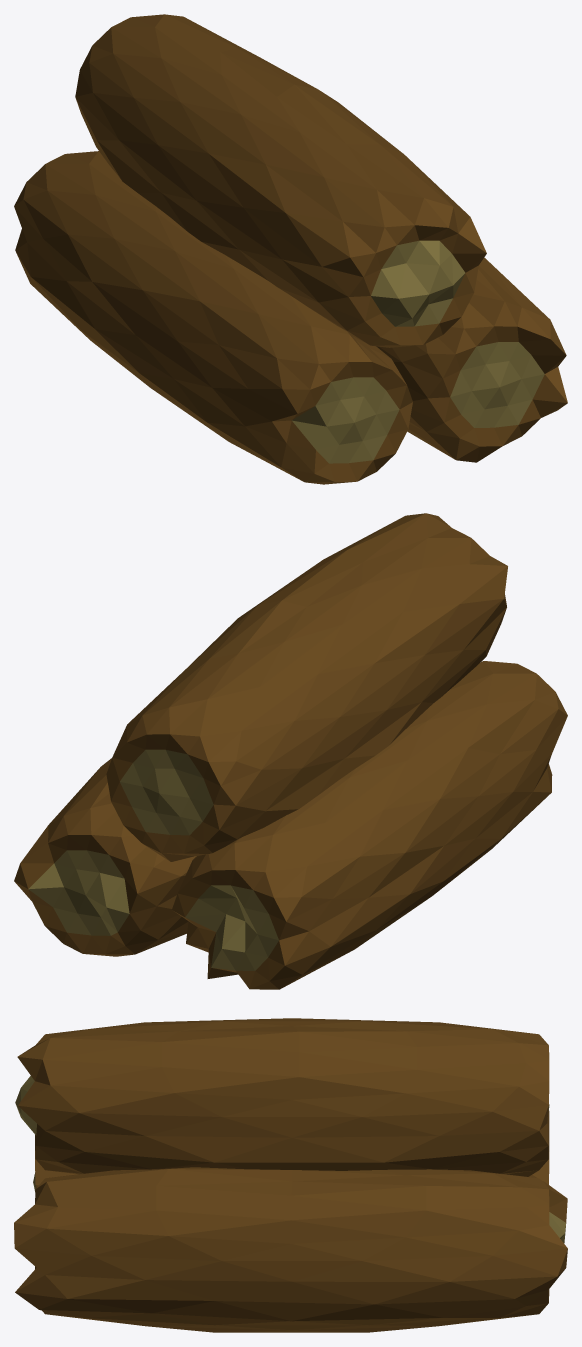
Rendered from drewno obiekt.fbx.
The picture shows the model from 3 angles, top to bottom: view 1: azimuth 30°, elevation 25°; view 2: azimuth 150°, elevation 25°; view 3: azimuth 270°, elevation 25°; orthographic projection. The views are drawn at different scales.
Parts seen in each view (by area): view 1: Icosphere.087; view 2: Icosphere.087; view 3: Icosphere.087.
Part boxes in pixels (x1,y1,x2,y2): Icosphere.087: [14, 14, 567, 484]; Icosphere.087: [14, 513, 567, 989]; Icosphere.087: [14, 1018, 567, 1332].
Bounding box in the file's own units: 199 × 187 × 347.
